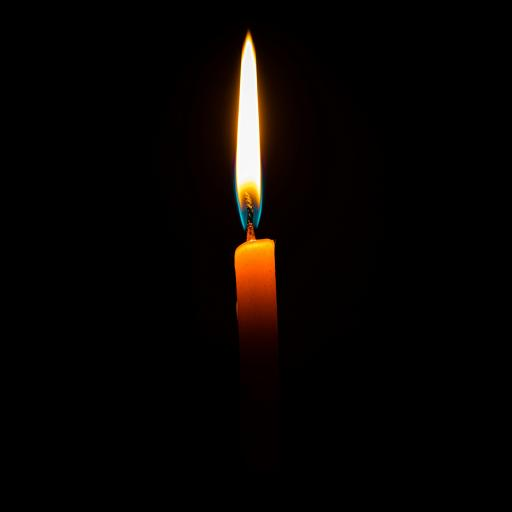candlelight: (218, 8, 292, 375)
fire: (231, 24, 273, 218)
